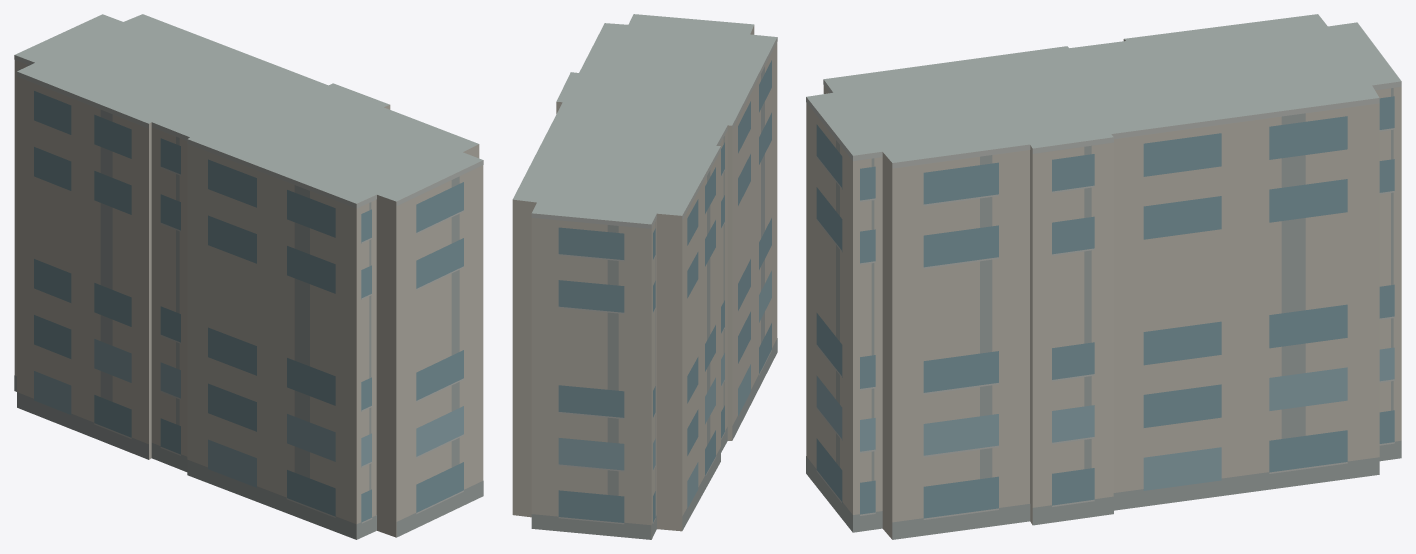
The model's file is survey-upis-32610920.glb.
3 views of the same model, side by side, from view 1: azimuth 30°, elevation 25°; view 2: azimuth 150°, elevation 25°; view 3: azimuth 270°, elevation 25° (orthographic). The views are drawn at different scales.
Parts seen in each view (by area): view 1: survey-upis-32610920.tmp; view 2: survey-upis-32610920.tmp; view 3: survey-upis-32610920.tmp.
Boxes of the visible parts, x1,y1,x2,y2 form: survey-upis-32610920.tmp: [14, 14, 483, 539]; survey-upis-32610920.tmp: [512, 14, 777, 539]; survey-upis-32610920.tmp: [806, 14, 1401, 539].
Size of the model in its own units: 14.39 by 16.95 by 24.28.
